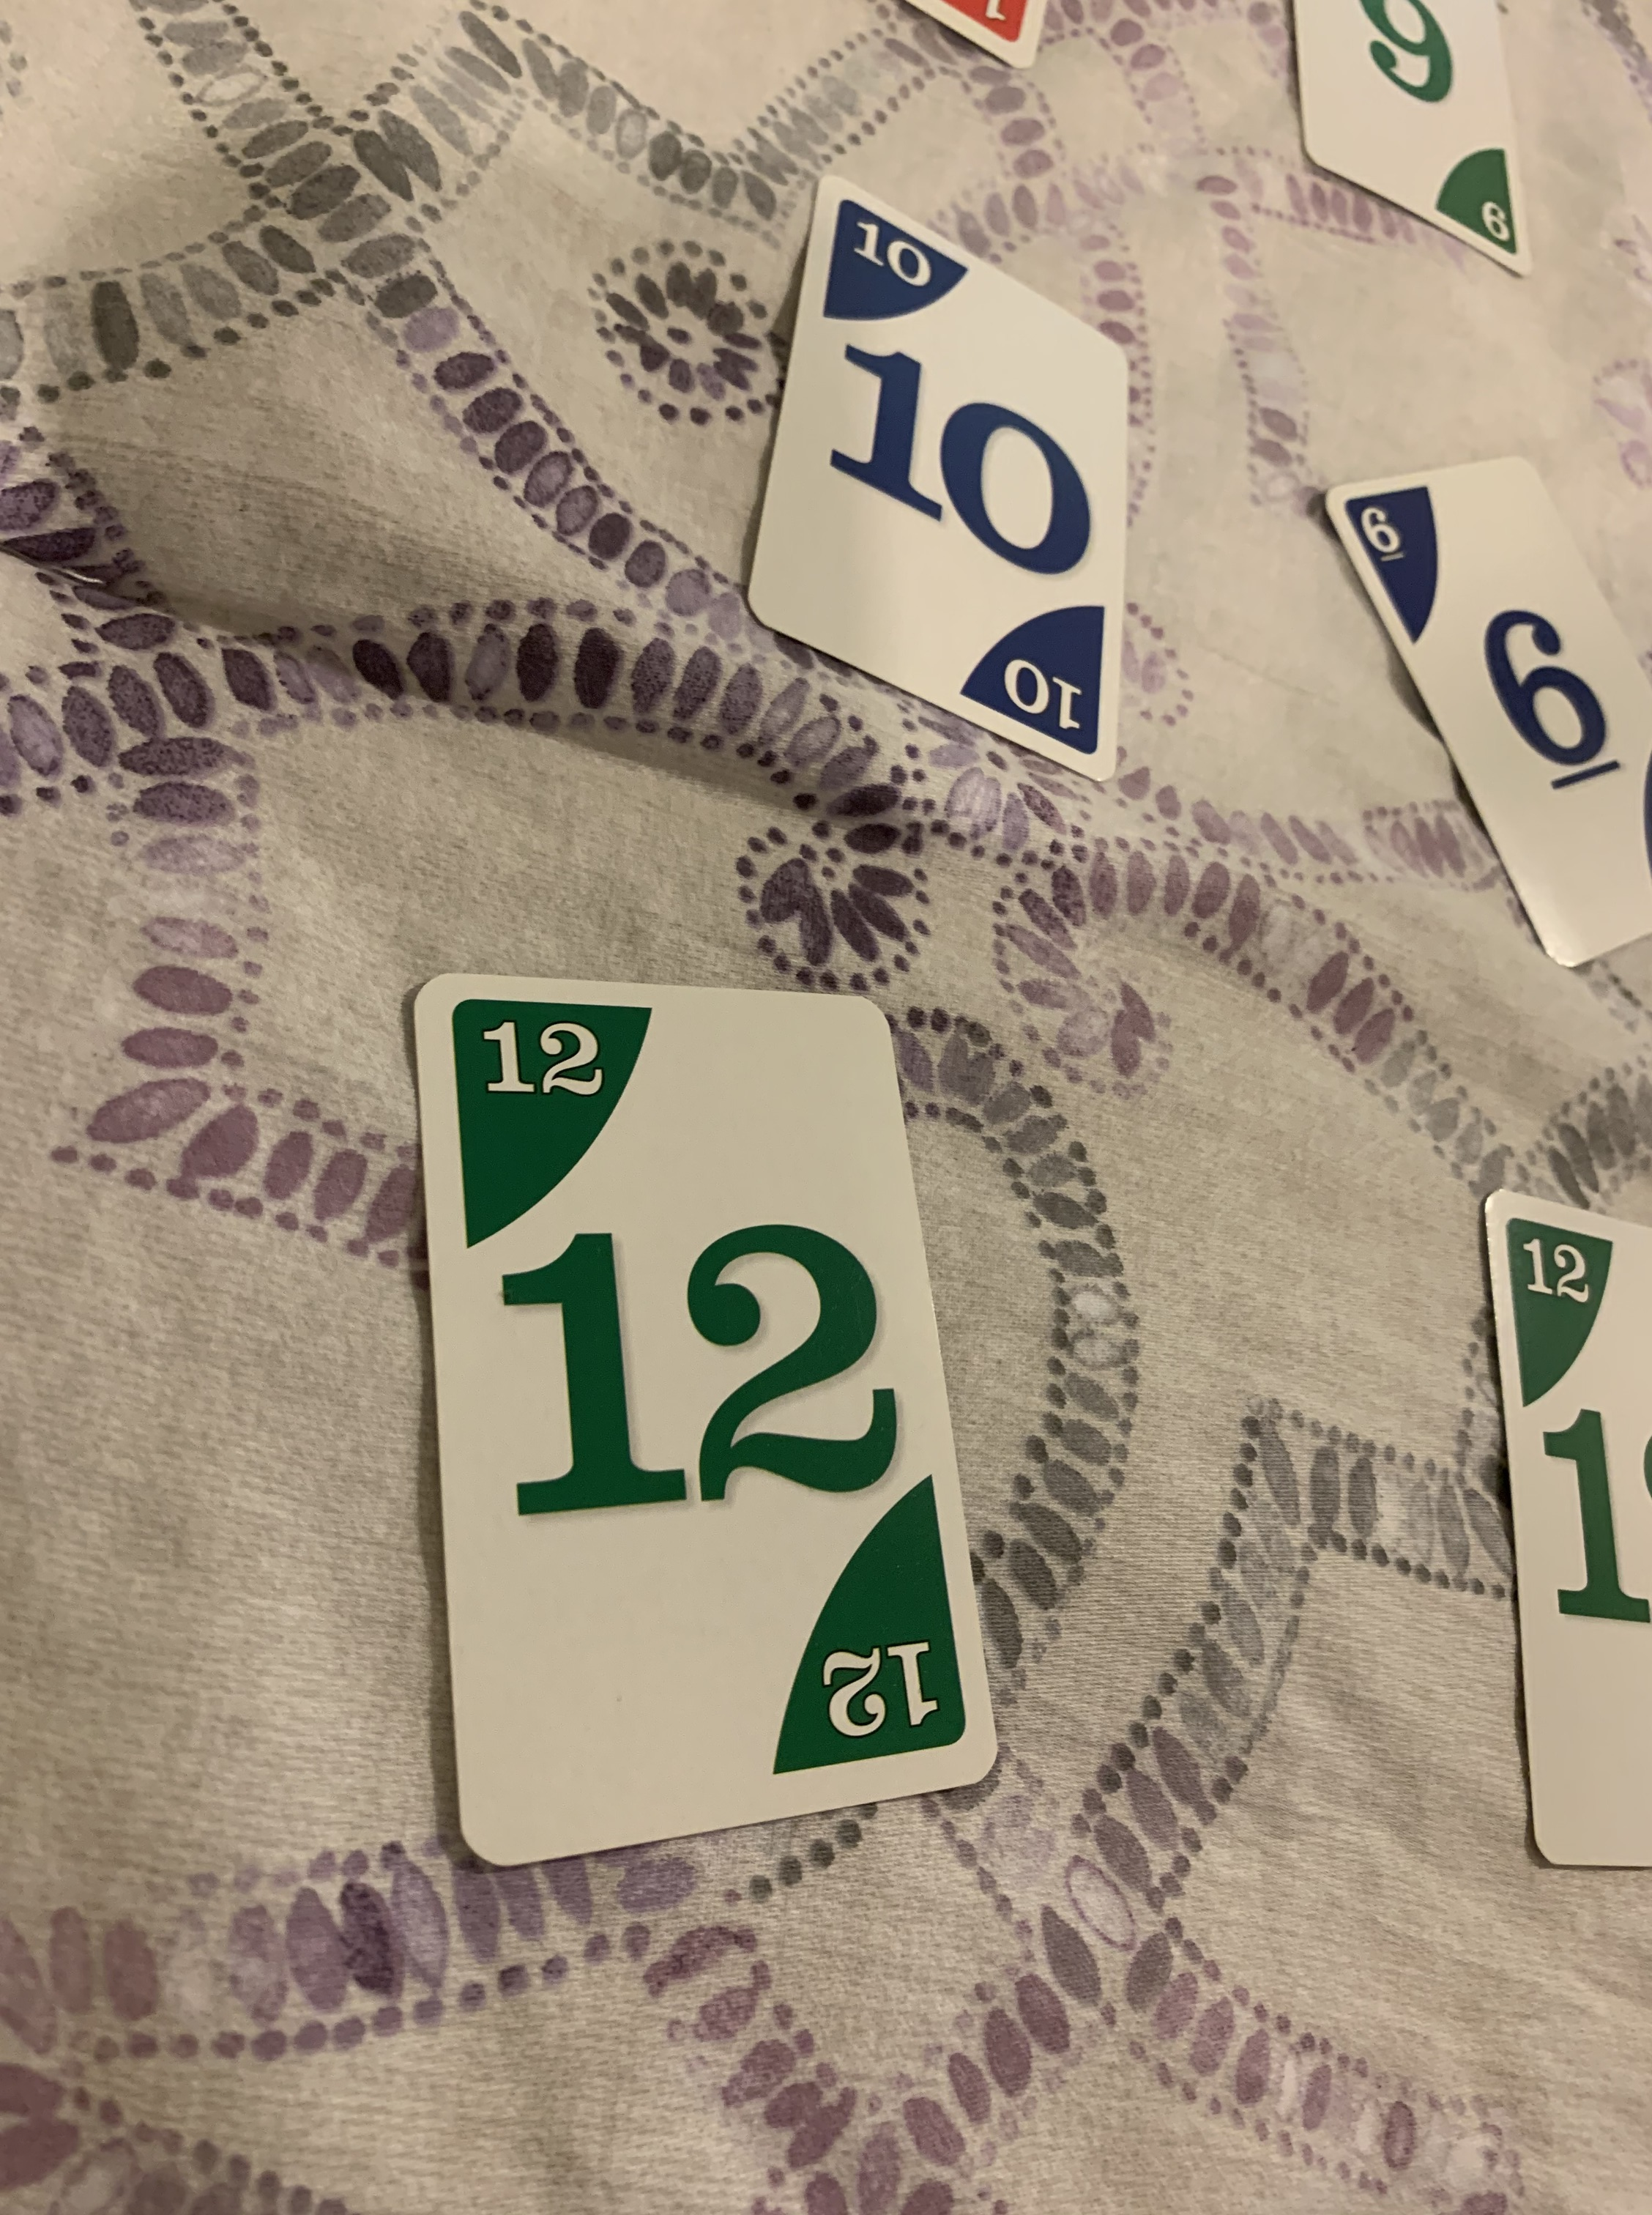six: (1317, 457, 1652, 974)
ten: (743, 174, 1140, 799)
twelve: (404, 969, 1001, 1877)
